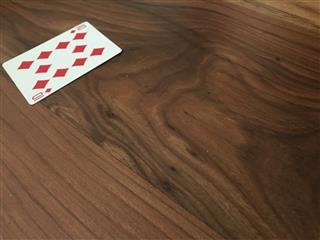TenOfDiamonds: (1, 20, 122, 104)
